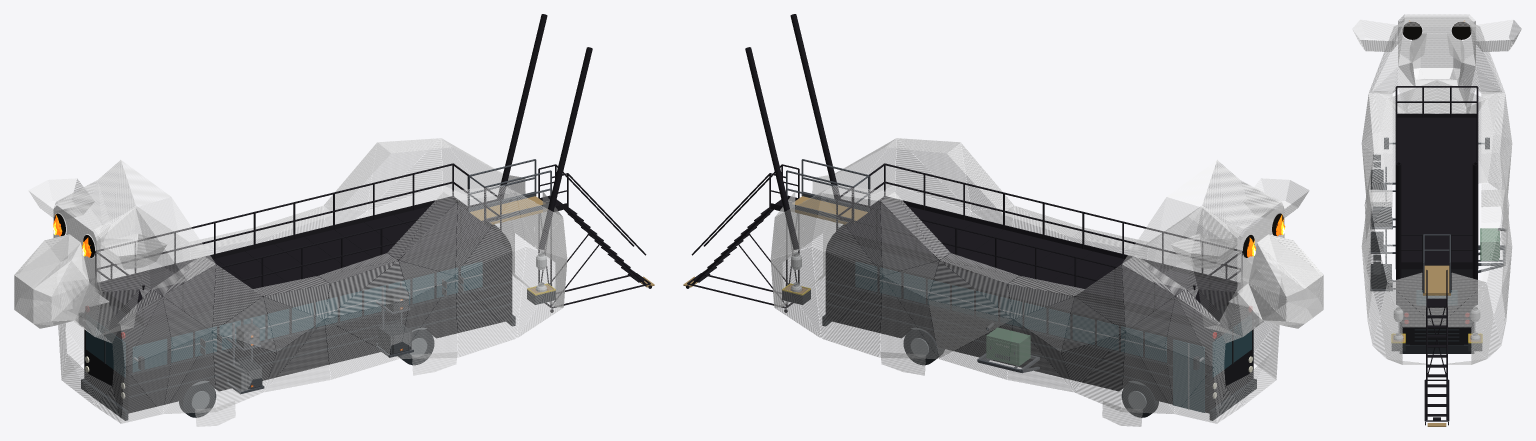
File: baaabs-speaker-placement-v9.glb
3 views of the same model, side by side, from view 1: azimuth 30°, elevation 25°; view 2: azimuth 150°, elevation 25°; view 3: azimuth 270°, elevation 25° (orthographic). The views are drawn at different scales.
Parts seen in each view (by area): view 1: Bus__Body_96in_wide, Left_Skirt_07_b, Left_Skirt_07_a, Left_Skirt_06_a, Left_Skirt_05_b, Left_Flank_07_b, Left_Flank_06_b, Left_Skirt_02_a, Left_Skirt_05_a, Left_Skirt_04_a, Right_Flank_07_b, Left_Flank_07_a (+81 smaller); view 2: Bus__Body_96in_wide, Right_Skirt_07_b, Right_Skirt_05_b, Right_Skirt_06_a, Right_Skirt_07_a, Right_Flank_07_b, Right_Flank_06_b, Right_Skirt_02_a, Left_Flank_07_b, Right_Flank_07_a, Right_Skirt_04_a, Right_Skirt_05_a (+83 smaller); view 3: Bus__Body_96in_wide, Bus__Rear_engine_hatch, Dancefloor_section_01, Dancefloor_section_02, Dancefloor_section_03, Rear_surround_05_a, Rear_surround_06_a, Dancefloor_section_04, Dancefloor_section_12, Head__F-nose-front, Dancefloor_section_05, Dancefloor_section_06 (+101 smaller).
Part boxes in pixels (x1,y1,x2,y2): Bus__Body_96in_wide: (84,241,512,413); Left_Skirt_07_b: (456,247,525,337); Left_Skirt_07_a: (455,277,515,357); Left_Skirt_06_a: (399,277,457,358); Left_Skirt_05_b: (326,300,409,358); Left_Flank_07_b: (455,193,514,274); Left_Flank_06_b: (399,201,457,275); Left_Skirt_02_a: (163,334,216,413); Left_Skirt_05_a: (324,320,397,379); Left_Skirt_04_a: (265,321,330,391); Right_Flank_07_b: (367,138,440,209); Left_Flank_07_a: (456,194,525,275); Bus__Body_96in_wide: (825,241,1253,413); Right_Skirt_07_b: (812,247,881,337); Right_Skirt_05_b: (928,299,1012,358); Right_Skirt_06_a: (880,277,938,358); Right_Skirt_07_a: (822,277,882,357); Right_Flank_07_b: (823,193,882,274); Right_Flank_06_b: (880,201,938,275); Right_Skirt_02_a: (1121,334,1174,413); Left_Flank_07_b: (897,138,970,209); Right_Flank_07_a: (812,194,881,275); Right_Skirt_04_a: (1007,321,1072,391); Right_Skirt_05_a: (940,320,1013,379); Bus__Body_96in_wide: (1400,269,1473,344); Bus__Rear_engine_hatch: (1410,319,1463,345); Dancefloor_section_01: (1397,117,1476,129); Dancefloor_section_02: (1397,130,1476,142); Dancefloor_section_03: (1397,142,1476,154); Rear_surround_05_a: (1437,272,1485,325); Rear_surround_06_a: (1388,272,1436,325); Dancefloor_section_04: (1397,154,1476,166); Dancefloor_section_12: (1395,253,1478,269); Head__F-nose-front: (1420,38,1453,67); Dancefloor_section_05: (1401,167,1472,179); Dancefloor_section_06: (1401,179,1472,191).
Bounding box in the file's own units: 19.95 × 8.42 × 5.52.
Materials: 34 (9 with a texture image).
